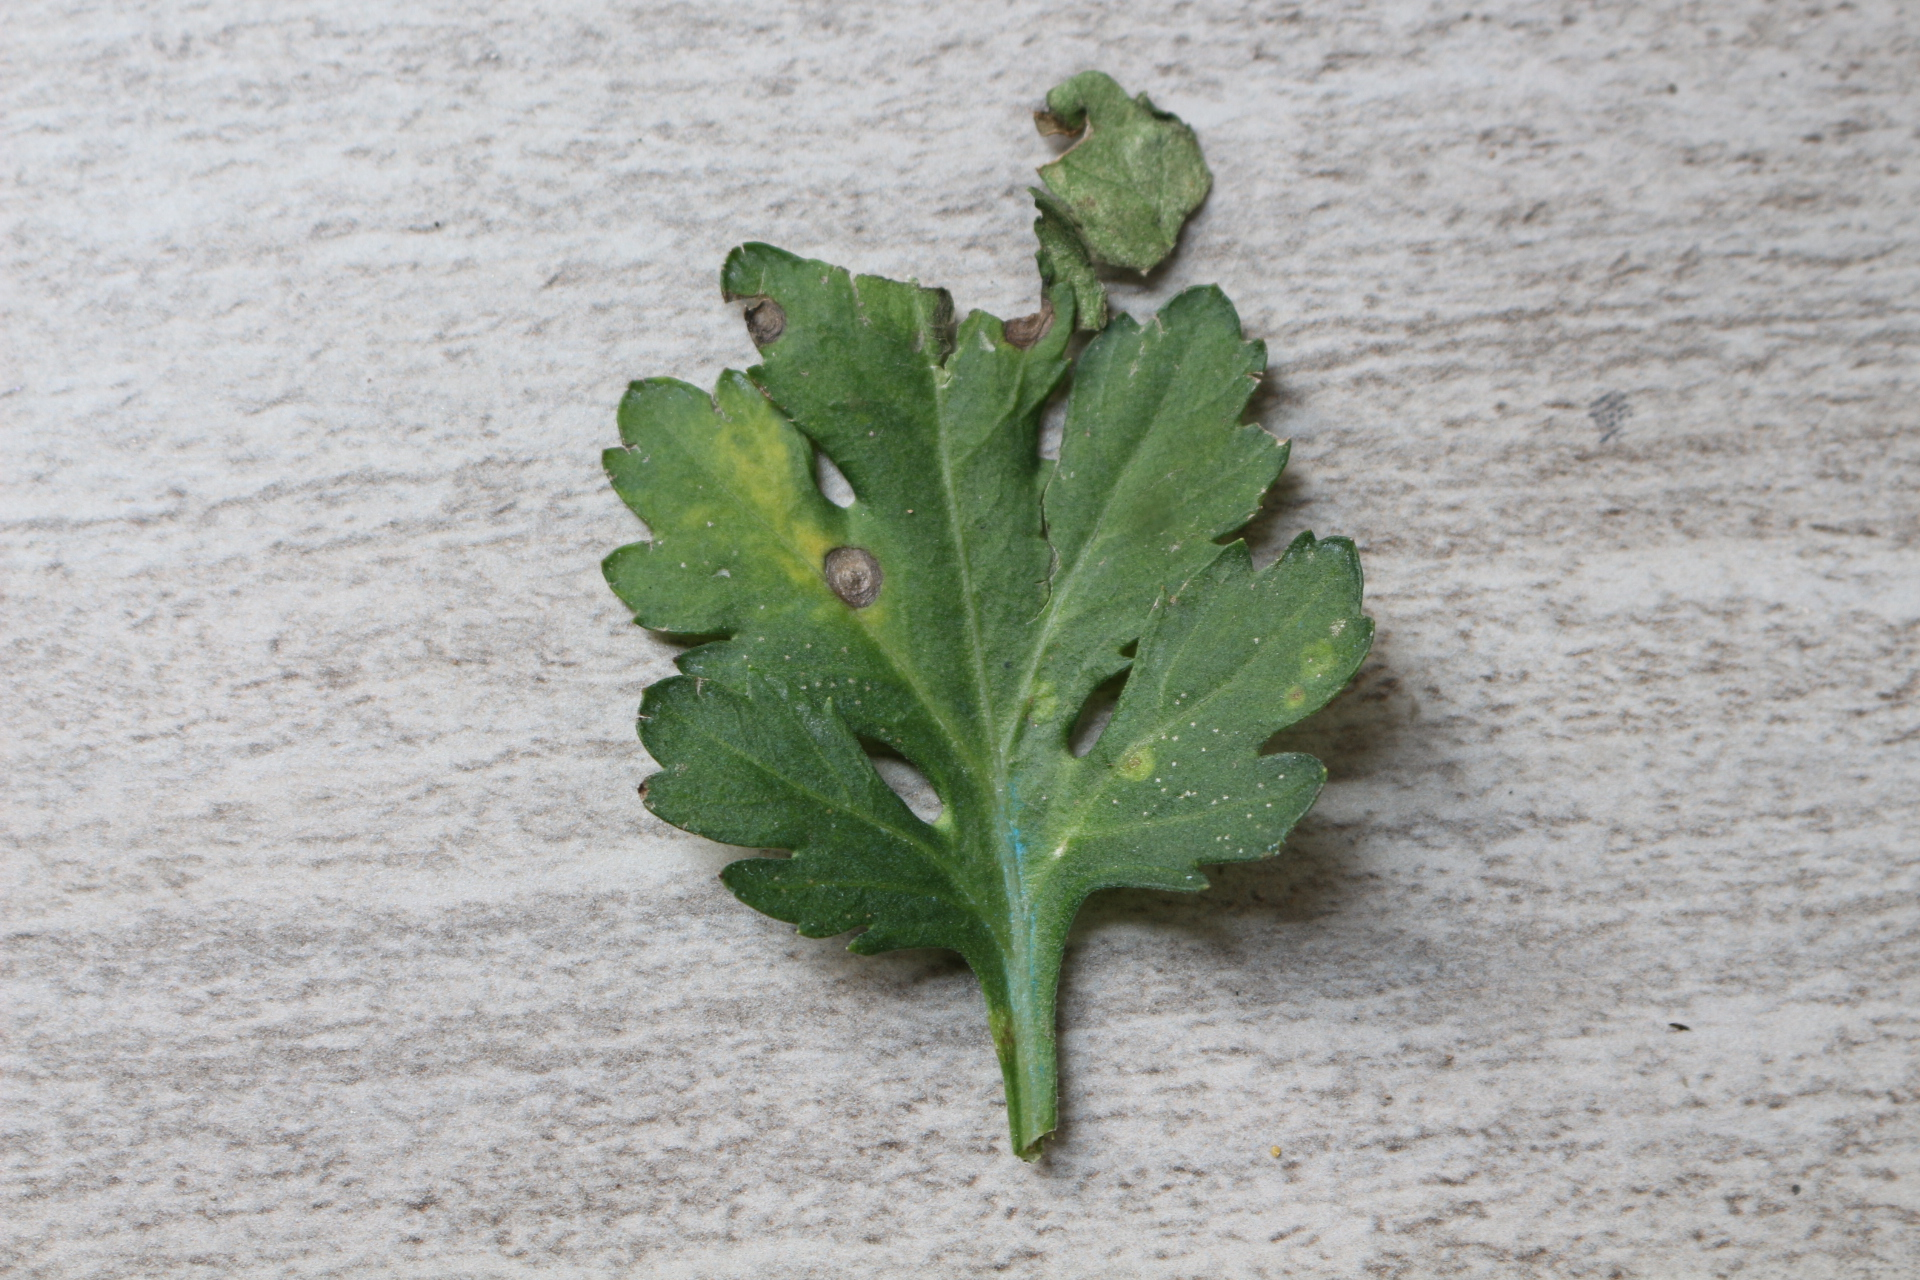namden: (810, 537, 887, 614), (739, 291, 794, 346)
namsung: (1296, 629, 1334, 690), (1110, 746, 1161, 786)
